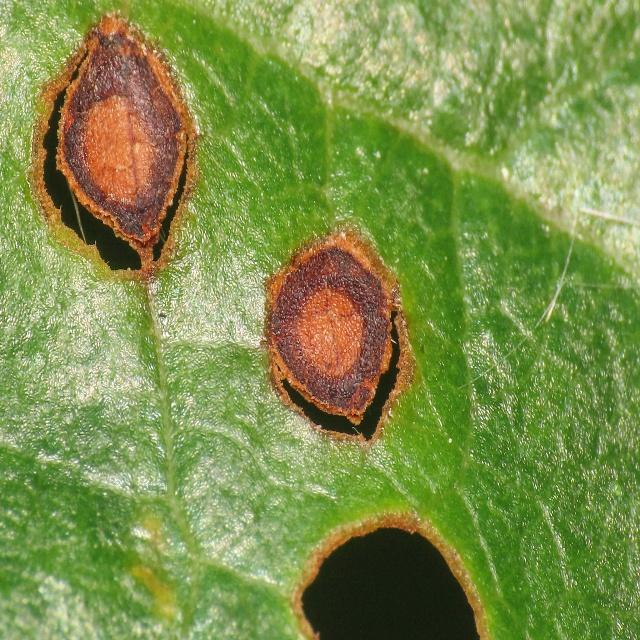leaf_spot: (1, 0, 613, 478)
shot_hole: (204, 507, 559, 640)
